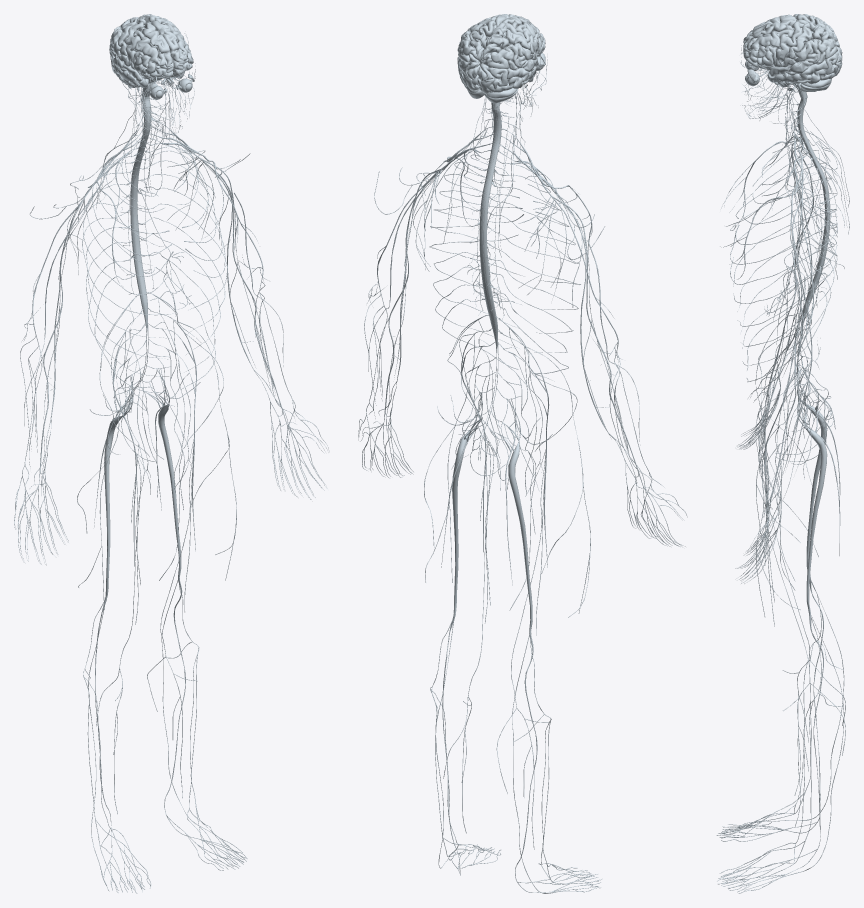
File: nerveux.glb
The picture shows the model from 3 angles, left to right: view 1: azimuth 30°, elevation 25°; view 2: azimuth 150°, elevation 25°; view 3: azimuth 270°, elevation 25°; orthographic projection. The views are drawn at different scales.
Parts seen in each view (by area): view 1: nerveux:reste, cerveau; view 2: nerveux:reste, cerveau; view 3: nerveux:reste, cerveau.
Part boxes in pixels (x1,y1,x2,y2): nerveux:reste: [14, 22, 329, 893]; cerveau: [109, 14, 193, 96]; nerveux:reste: [358, 16, 687, 893]; cerveau: [457, 14, 545, 107]; nerveux:reste: [716, 15, 849, 893]; cerveau: [743, 14, 842, 98].
Bounding box in the file's own units: 0.6674 × 1.69 × 0.2425.
